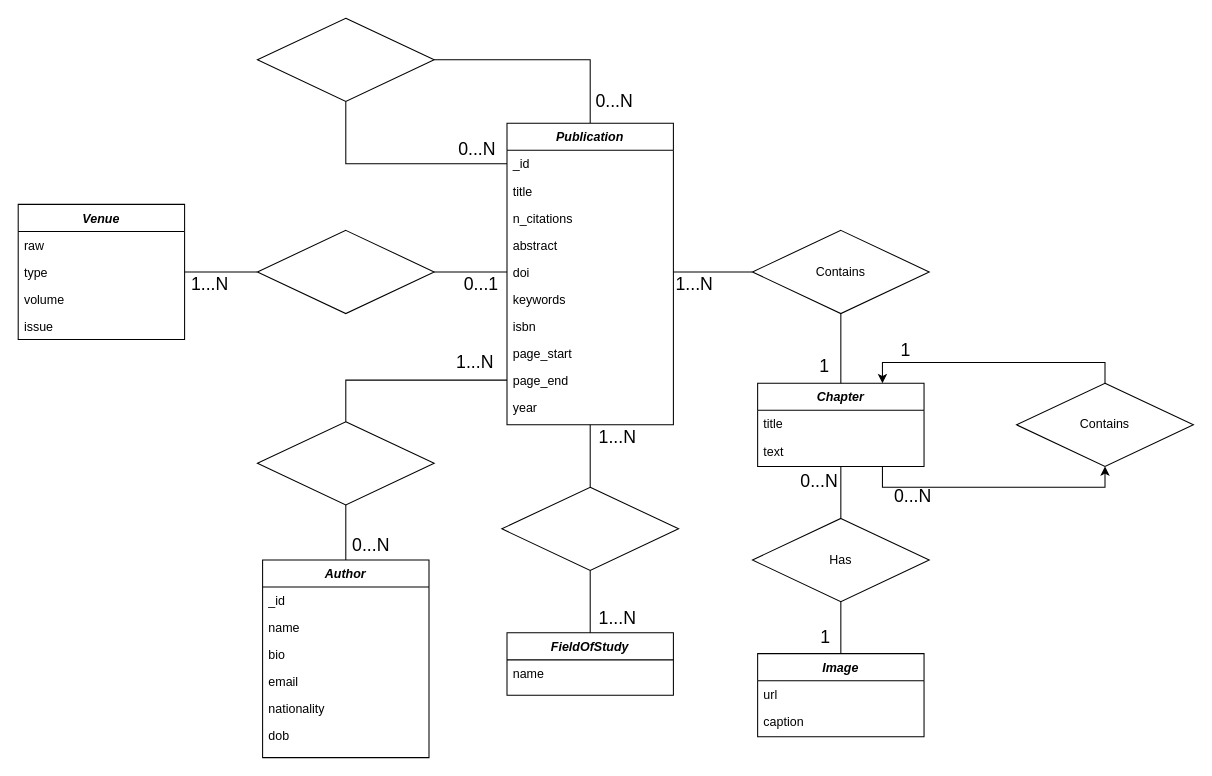
Image size: 1212x776. Some labels were removed from this diagram. Each missing label, with the centre of its shape:
Mentions: pixel 345 59
Published_on: pixel 345 271
Regards: pixel 590 528
Writes: pixel 345 463
